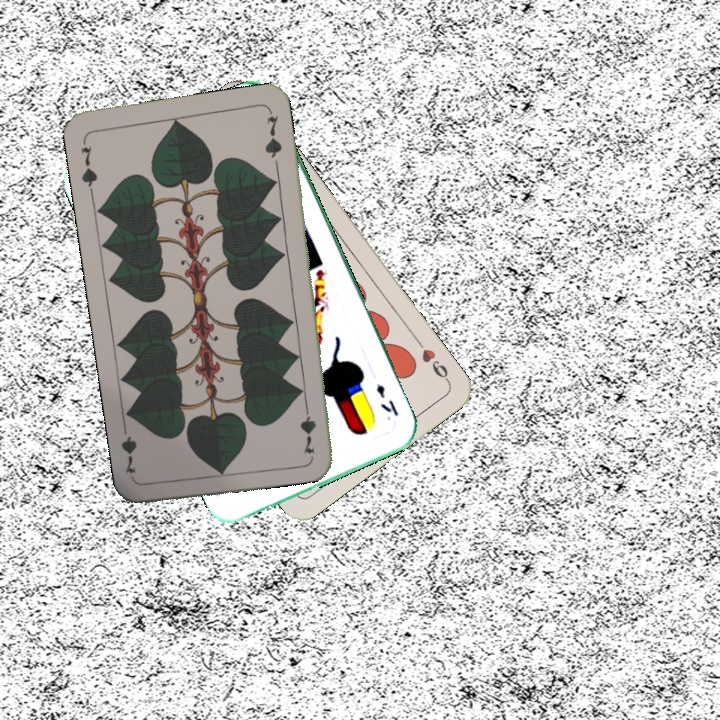EK: (372, 380, 401, 418)
G7: (76, 135, 100, 194), (300, 396, 319, 455)
H9: (412, 334, 452, 385)
